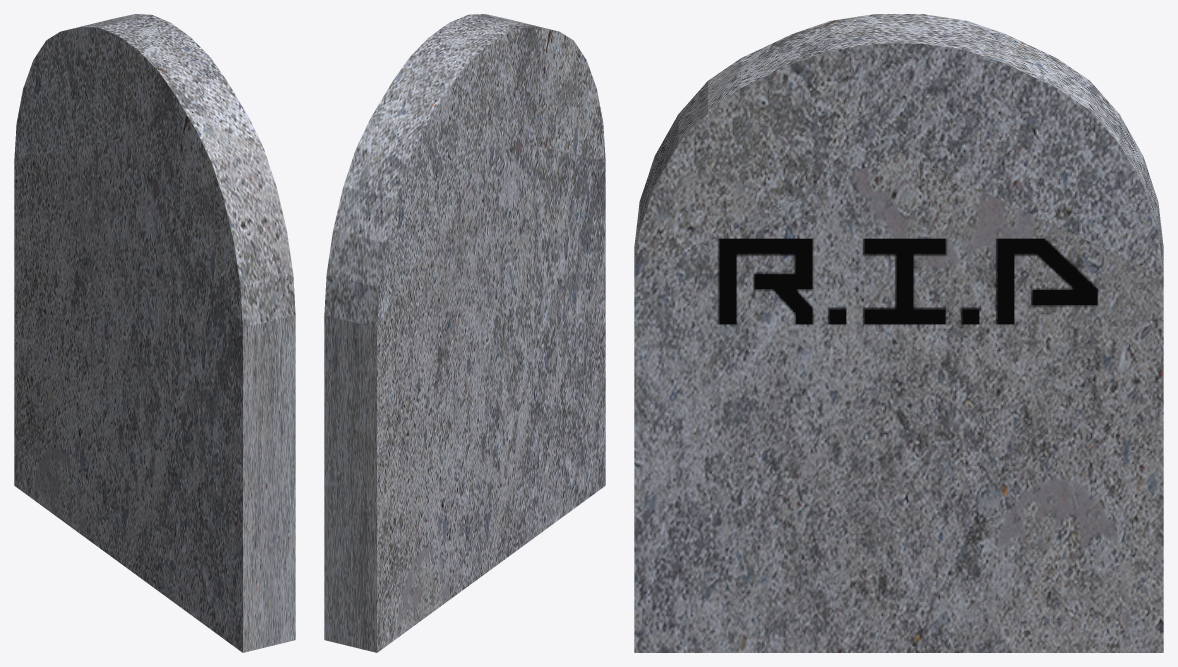
File: RIP.obj
The picture shows the model from 3 angles, left to right: view 1: azimuth 30°, elevation 25°; view 2: azimuth 150°, elevation 25°; view 3: azimuth 270°, elevation 25°; orthographic projection. The views are drawn at different scales.
Visible parts, largest first — view 1: Cube_Cube.001; view 2: Cube_Cube.001; view 3: Cube_Cube.001.
Part boxes in pixels (x1,y1,x2,y2): Cube_Cube.001: (14, 14, 295, 652); Cube_Cube.001: (324, 14, 605, 652); Cube_Cube.001: (634, 14, 1163, 652).
Bounding box in the file's own units: 0.2 × 1.91 × 1.5.
Materials: 1 (1 with a texture image).
